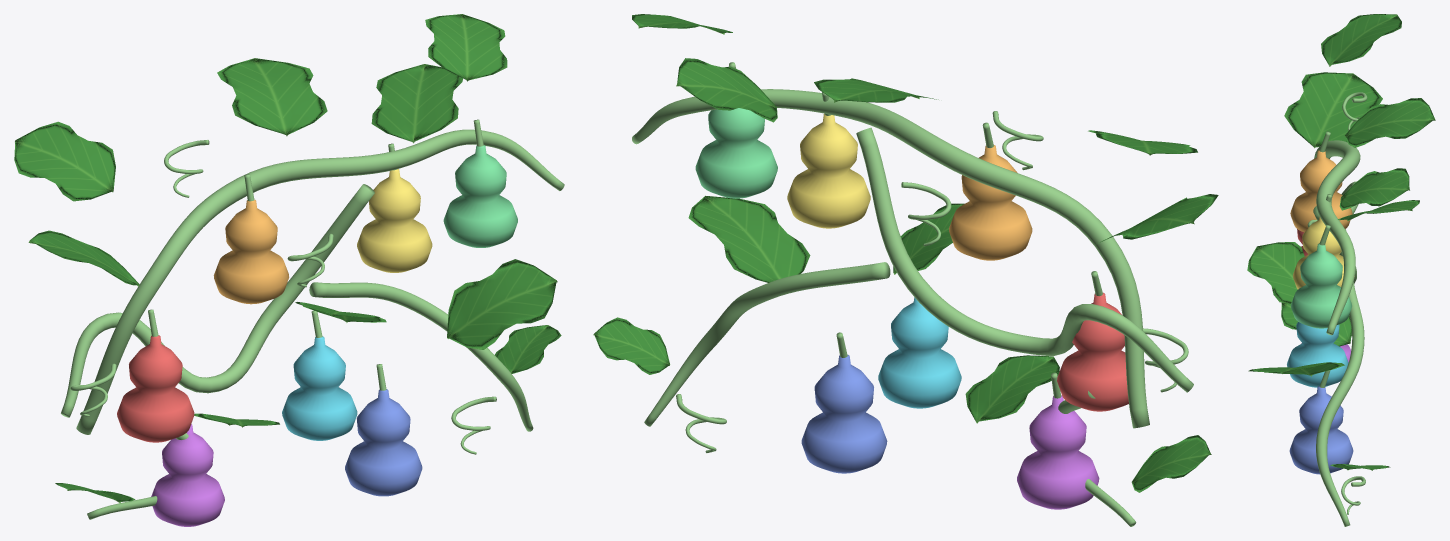
The model's file is Prop_01_七色葫芦仙藤.glb.
The picture shows the model from 3 angles, left to right: view 1: azimuth 30°, elevation 25°; view 2: azimuth 150°, elevation 25°; view 3: azimuth 270°, elevation 25°; orthographic projection. The views are drawn at different scales.
Parts seen in each view (by area): view 1: VineBranch_0, VineBranch_1, Leaf_6, Leaf_2, Gourd_6_Blue, Gourd_1_Red, Leaf_0, Gourd_5_Cyan, Gourd_2_Orange, Gourd_3_Yellow, Leaf_3, Gourd_4_Green (+7 smaller); view 2: VineBranch_0, VineBranch_1, Gourd_6_Blue, Gourd_3_Yellow, Leaf_6, Gourd_5_Cyan, Gourd_7_Purple, Gourd_4_Green, Gourd_2_Orange, Gourd_1_Red, VineBranch_2, Leaf_7 (+10 smaller); view 3: Leaf_1, Gourd_4_Green, VineBranch_0, Gourd_6_Blue, VineBranch_2, Leaf_2, Gourd_5_Cyan, Leaf_0, Leaf_5, Gourd_2_Orange, Leaf_4, Gourd_3_Yellow (+6 smaller).
Boxes of the visible parts, bbox=[...] form: VineBranch_0: bbox=[76, 129, 564, 434]; VineBranch_1: bbox=[61, 184, 374, 417]; Leaf_6: bbox=[447, 259, 557, 349]; Leaf_2: bbox=[217, 58, 327, 136]; Gourd_6_Blue: bbox=[345, 389, 422, 496]; Gourd_1_Red: bbox=[117, 335, 194, 442]; Leaf_0: bbox=[14, 121, 115, 201]; Gourd_5_Cyan: bbox=[282, 336, 357, 440]; Gourd_2_Orange: bbox=[213, 199, 289, 304]; Gourd_3_Yellow: bbox=[357, 169, 432, 272]; Leaf_3: bbox=[371, 64, 462, 143]; Gourd_4_Green: bbox=[443, 145, 517, 247]; VineBranch_0: bbox=[632, 89, 1149, 428]; VineBranch_1: bbox=[856, 127, 1193, 392]; Gourd_6_Blue: bbox=[801, 354, 887, 473]; Gourd_3_Yellow: bbox=[787, 113, 870, 228]; Leaf_6: bbox=[688, 195, 810, 282]; Gourd_5_Cyan: bbox=[878, 297, 961, 408]; Gourd_7_Purple: bbox=[1017, 395, 1099, 509]; Gourd_4_Green: bbox=[695, 108, 777, 198]; Gourd_2_Orange: bbox=[949, 145, 1032, 260]; Gourd_1_Red: bbox=[1057, 292, 1128, 411]; VineBranch_2: bbox=[644, 262, 890, 426]; Leaf_7: bbox=[965, 355, 1059, 423]; Leaf_1: bbox=[1284, 72, 1382, 148]; Gourd_4_Green: bbox=[1291, 243, 1351, 328]; VineBranch_0: bbox=[1314, 140, 1360, 335]; Gourd_6_Blue: bbox=[1289, 386, 1353, 474]; VineBranch_2: bbox=[1316, 282, 1364, 526]; Leaf_2: bbox=[1344, 98, 1435, 147]; Gourd_5_Cyan: bbox=[1287, 322, 1348, 387]; Leaf_0: bbox=[1321, 14, 1401, 66]; Leaf_5: bbox=[1247, 242, 1304, 303]; Gourd_2_Orange: bbox=[1290, 150, 1352, 232]; Leaf_4: bbox=[1339, 168, 1409, 210]; Gourd_3_Yellow: bbox=[1293, 216, 1354, 289].
Size of the model in its own units: 4.32 by 3.16 by 1.59.
9 materials, 1 textured.
